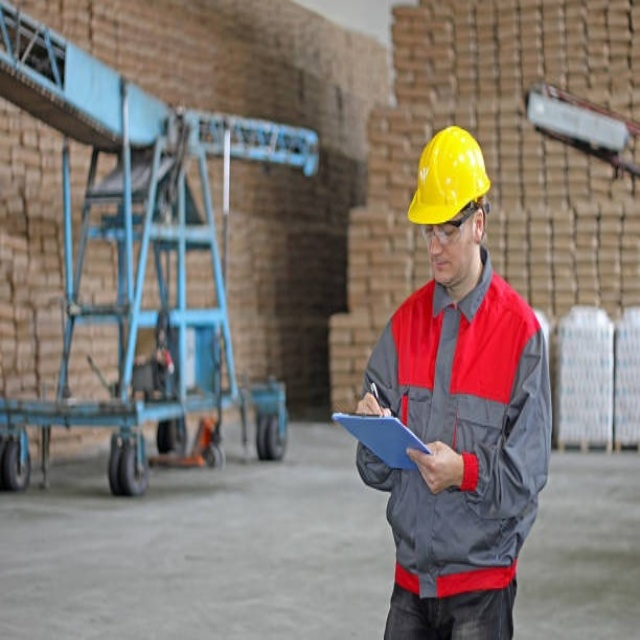Gafas: (419, 206, 479, 246)
Sin_guantes: (403, 439, 462, 494), (354, 389, 389, 418)
Sin_mascara: (431, 254, 455, 279)
